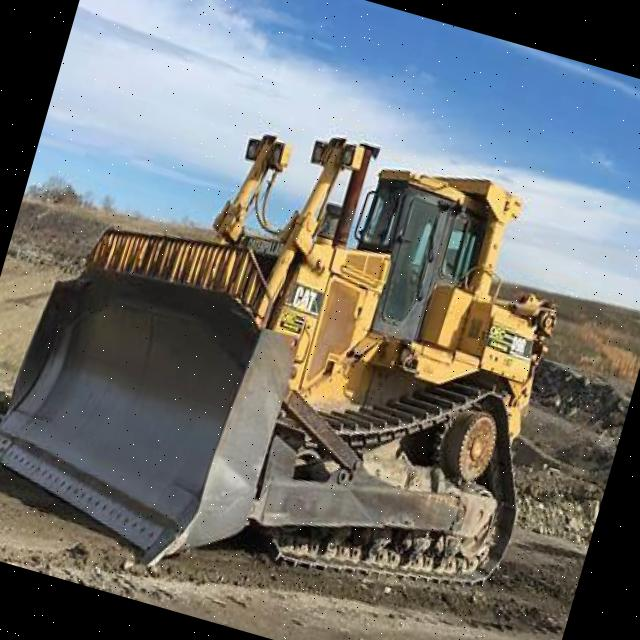Bulldozer: (0, 7, 623, 636)
